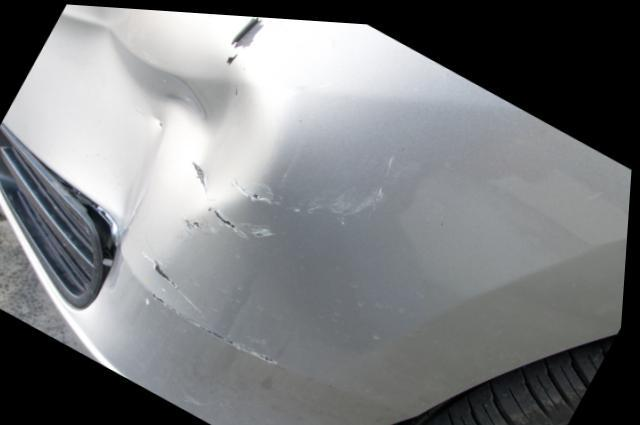dent: (23, 3, 260, 224)
scratch: (145, 150, 402, 365)
